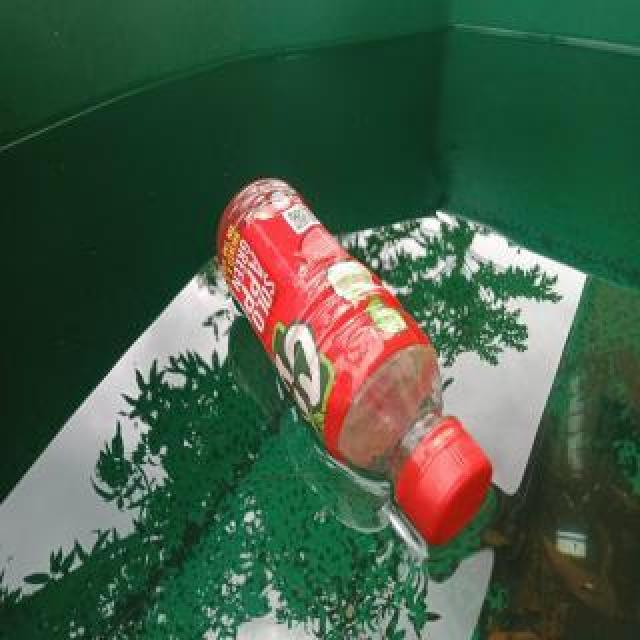bottle: (212, 172, 494, 554)
